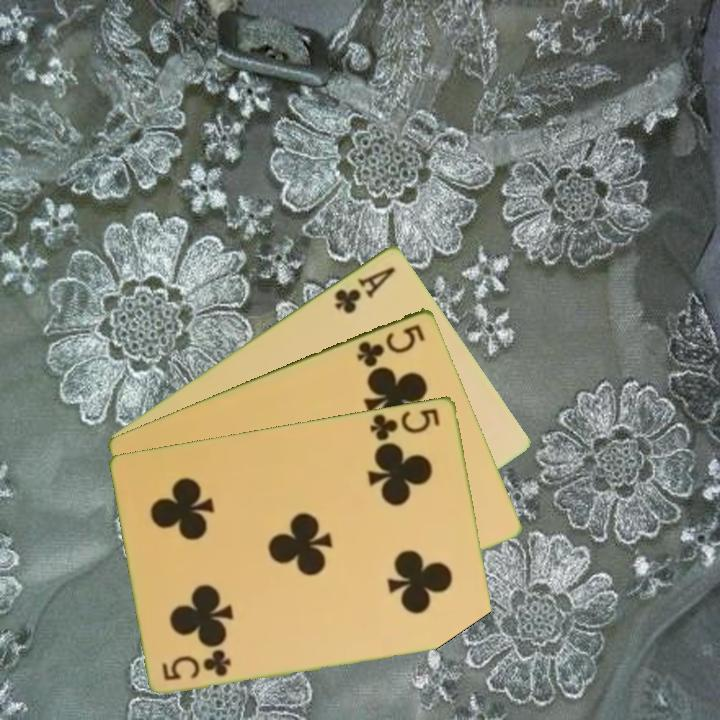5c: (353, 320, 428, 370), (366, 404, 443, 443), (159, 648, 234, 683)
Ac: (331, 262, 399, 317)
